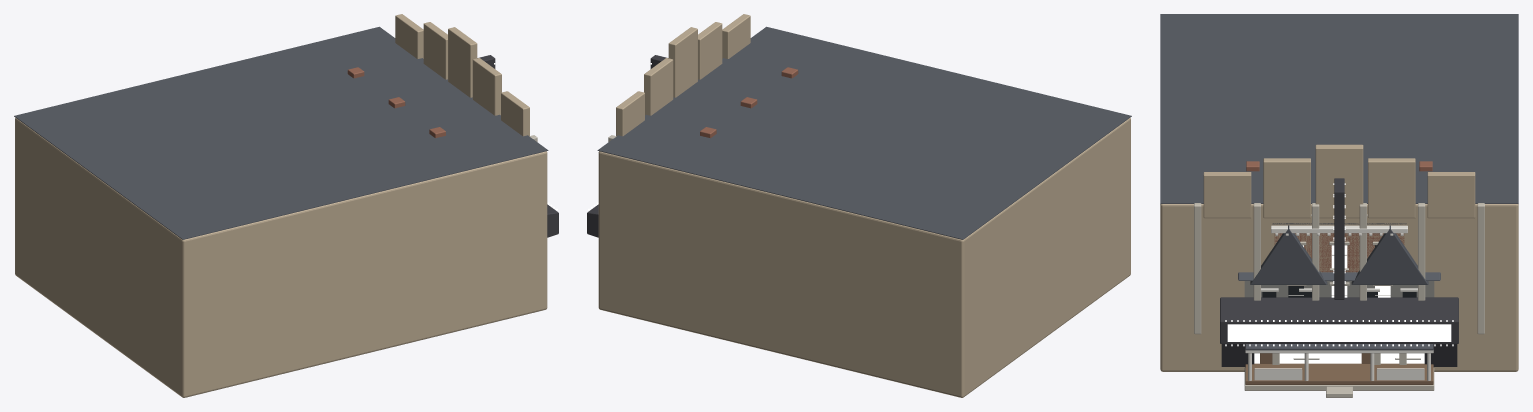
File: mtairy_kit.glb
The picture shows the model from 3 angles, left to right: view 1: azimuth 30°, elevation 25°; view 2: azimuth 150°, elevation 25°; view 3: azimuth 270°, elevation 25°; orthographic projection. The views are drawn at different scales.
Parts seen in each view (by area): view 1: body.002, roof.002, step0, step3.5, step-3.5, step7.5, step-7.5; view 2: body.002, roof.002, step0, step-3.5, step3.5, step-7.5, step7.5; view 3: roof.002, body.002, marq, marqface, step0, step3.5, step-3.5, porchfl, gabr3.4, gabr-3.4, step7.5, step-7.5 (+20 smaller).
Part boxes in pixels (bbox=[...]): body.002: bbox=[15, 117, 547, 397]; roof.002: bbox=[14, 26, 548, 239]; step0: bbox=[448, 27, 477, 97]; step3.5: bbox=[472, 58, 501, 115]; step-3.5: bbox=[423, 22, 447, 79]; step7.5: bbox=[501, 91, 529, 136]; step-7.5: bbox=[395, 14, 423, 58]; body.002: bbox=[598, 117, 1130, 397]; roof.002: bbox=[597, 26, 1131, 239]; step0: bbox=[668, 27, 697, 97]; step-3.5: bbox=[644, 58, 673, 115]; step3.5: bbox=[698, 22, 722, 79]; step-7.5: bbox=[616, 91, 644, 136]; step7.5: bbox=[722, 14, 750, 58]; roof.002: bbox=[1160, 14, 1518, 203]; body.002: bbox=[1160, 204, 1518, 371]; marq: bbox=[1220, 297, 1458, 343]; marqface: bbox=[1227, 324, 1451, 341]; step0: bbox=[1315, 144, 1363, 218]; step3.5: bbox=[1263, 158, 1310, 218]; step-3.5: bbox=[1368, 158, 1415, 218]; porchfl: bbox=[1245, 363, 1433, 384]; gabr3.4: bbox=[1250, 225, 1327, 284]; gabr-3.4: bbox=[1351, 225, 1428, 284]; step7.5: bbox=[1203, 172, 1251, 218]; step-7.5: bbox=[1427, 172, 1475, 218].
Size of the model in its own units: 34 by 16.7 by 24.
